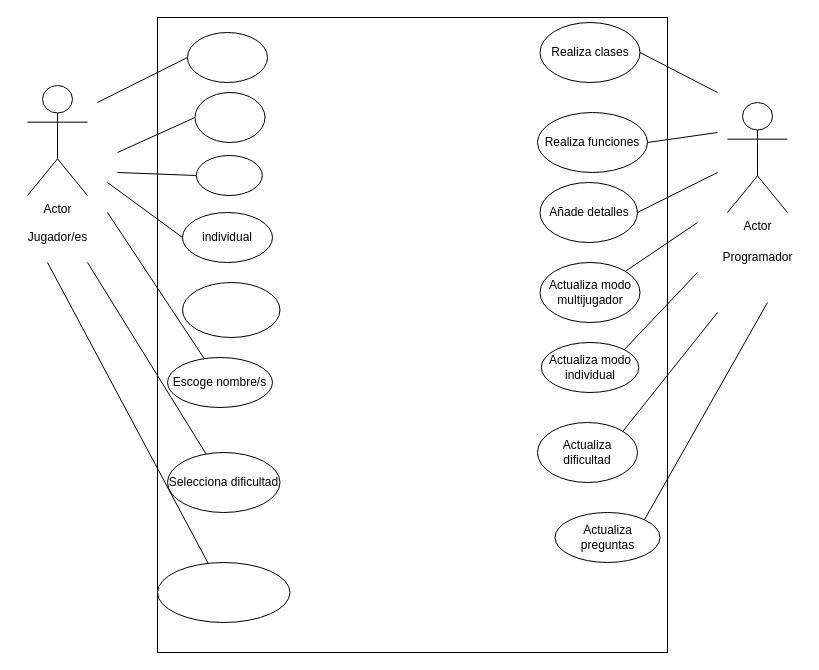
The diagram is 819 pixels wide and 670 high, and some of its shapes have lost their labels. The box of each missing label's shape, as (x1, y1, x2, y2) in pixels:
Ayuda: (194, 92, 265, 142)
Iniciar juego: (186, 32, 268, 82)
Multijugador: (182, 282, 280, 338)
Responde preguntas: (156, 562, 290, 622)
Salir: (195, 154, 262, 196)
